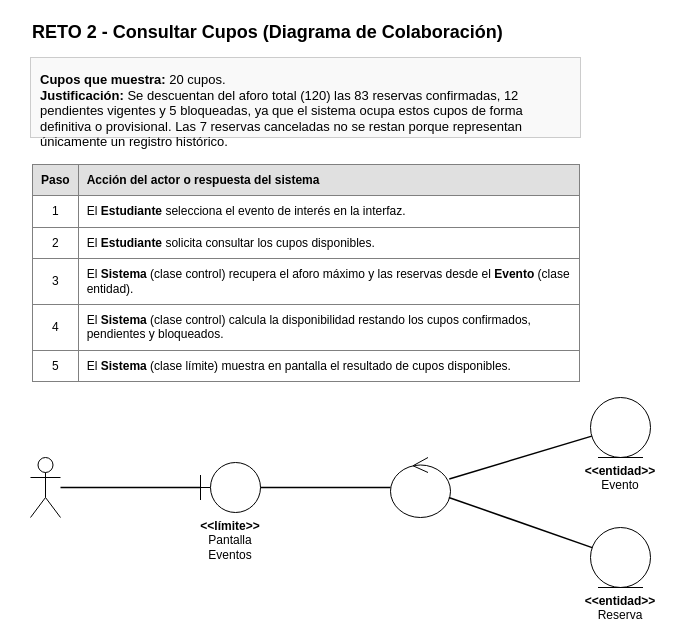
The diagram is 673 pixels wide and 640 high, and some of its shapes have lost their labels. Here are the shapes that lost their labels. From the top down, the centre of each, then its label:
At (45,487): "<<actor>> Estudiante".
At (420,487): "<<control>> Calcular Disponibilidad".
